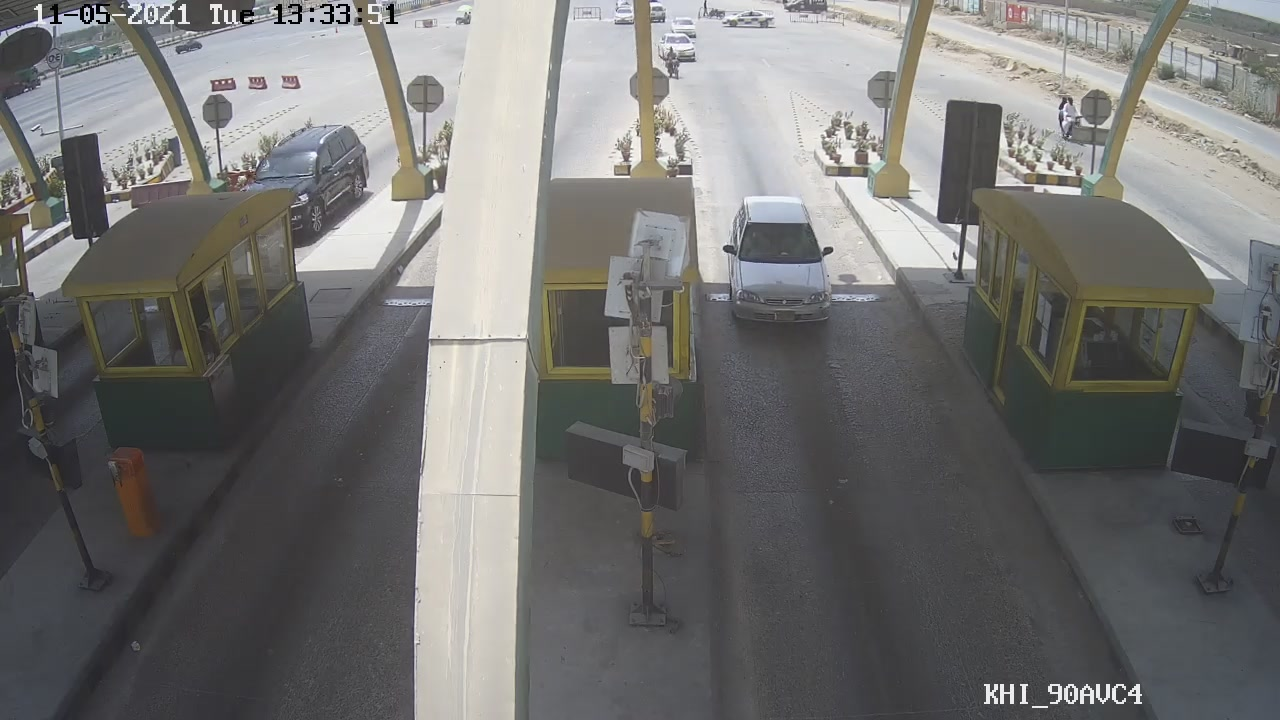F1: (715, 185, 837, 330)
